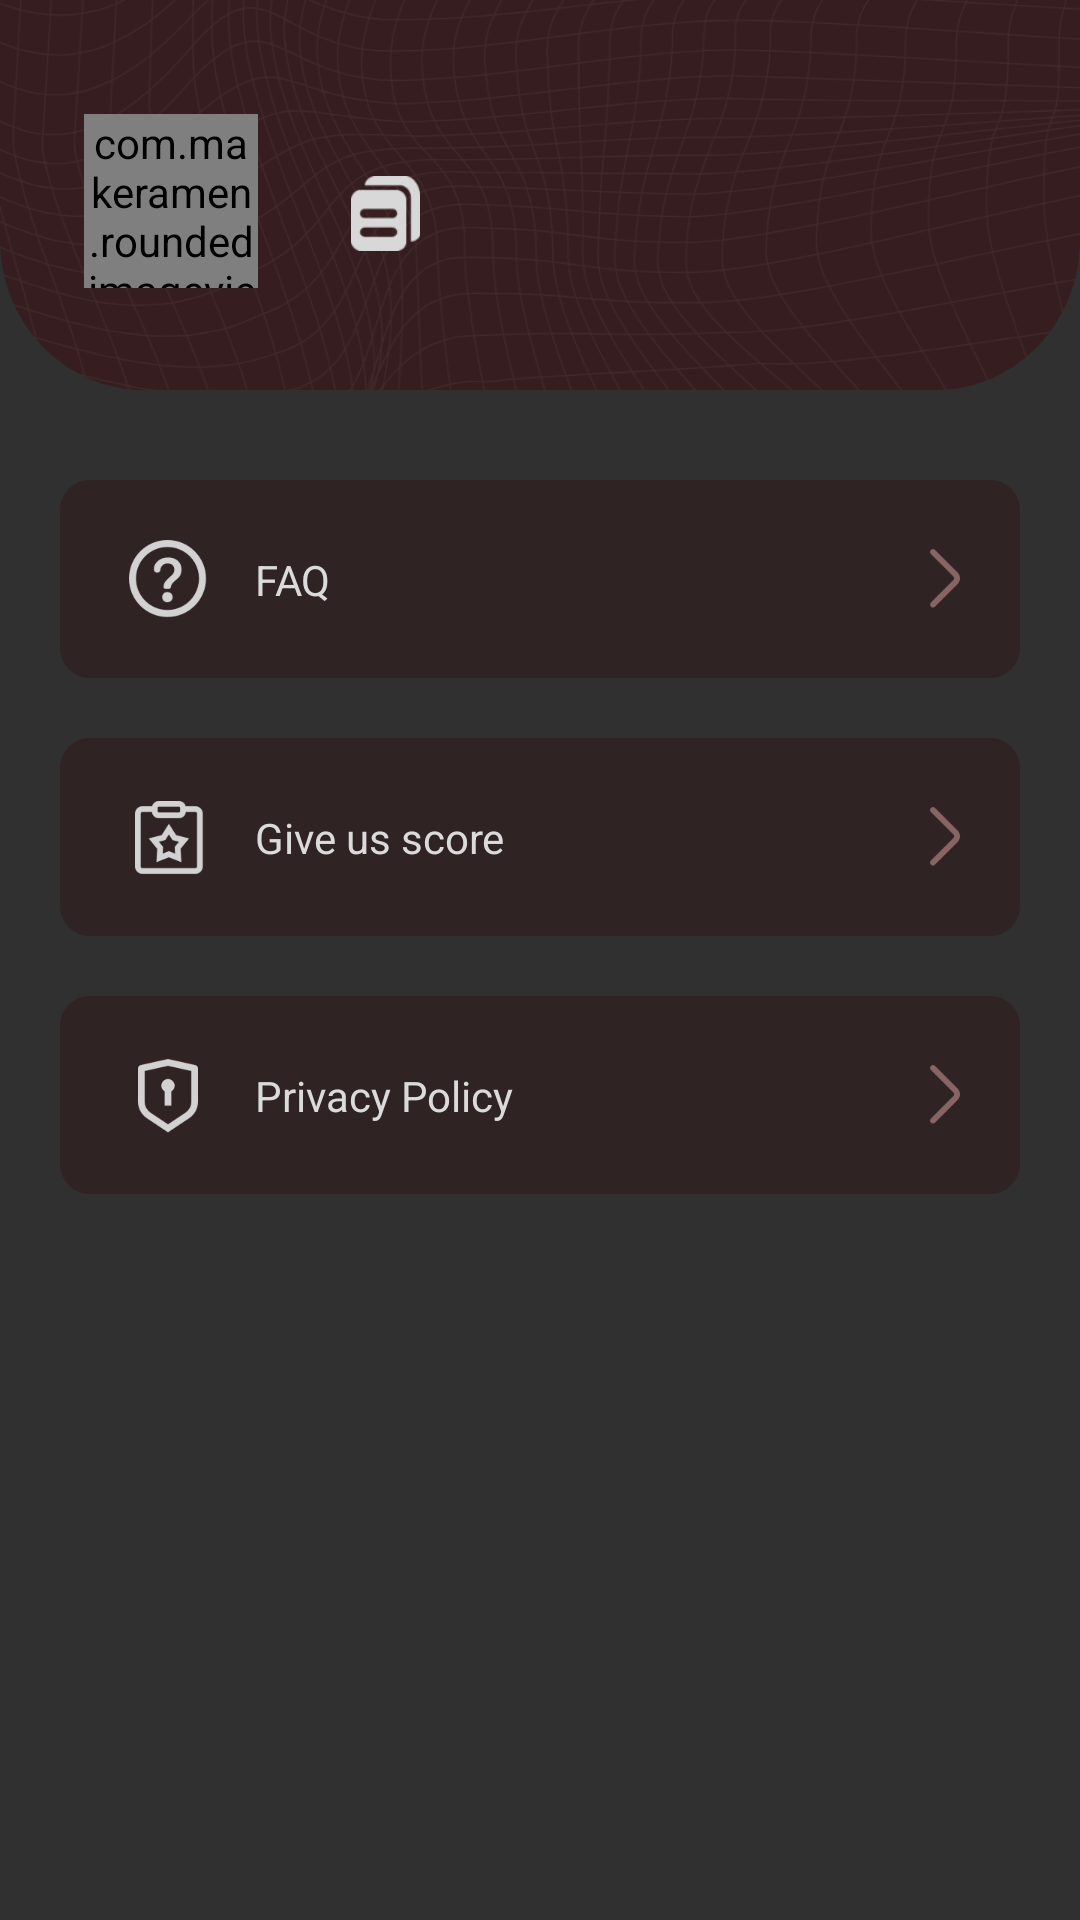

Icon bounding boxes for this 1080px×1920px phone screenshot, format [x1=x1, y1=y1, x2=x2, y2=y2]:
personal faq: [x1=129, y1=540, x2=206, y2=617]
personal next: [x1=930, y1=549, x2=960, y2=608], [x1=930, y1=807, x2=960, y2=866], [x1=930, y1=1065, x2=960, y2=1124]
personal policy: [x1=138, y1=1059, x2=198, y2=1133]
